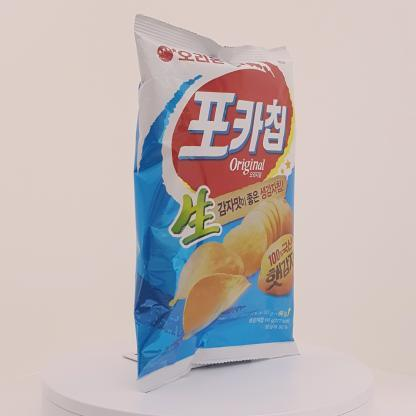Plastic Packaging: (126, 12, 307, 386)
